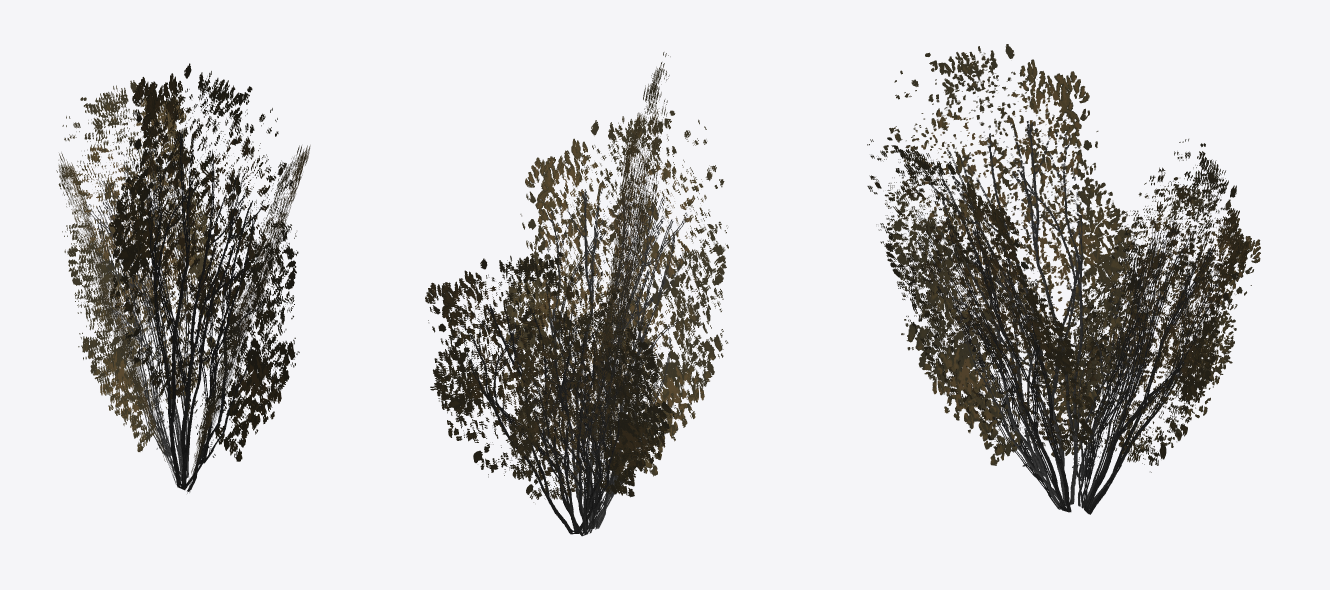
Rendered from Foliage01.fbx.
3 renders of one model, left to right at view 1: azimuth 30°, elevation 25°; view 2: azimuth 150°, elevation 25°; view 3: azimuth 270°, elevation 25°, orthographic. The views are drawn at different scales.
Visible parts, largest first — view 1: Foliage01; view 2: Foliage01; view 3: Foliage01.
Part boxes in pixels (<box>): Foliage01: <box>56,63,310,493</box>; Foliage01: <box>425,52,728,536</box>; Foliage01: <box>867,44,1260,514</box>.
Bounding box in the file's own units: 1.54 × 2.68 × 2.58.
1 material, 1 textured.
